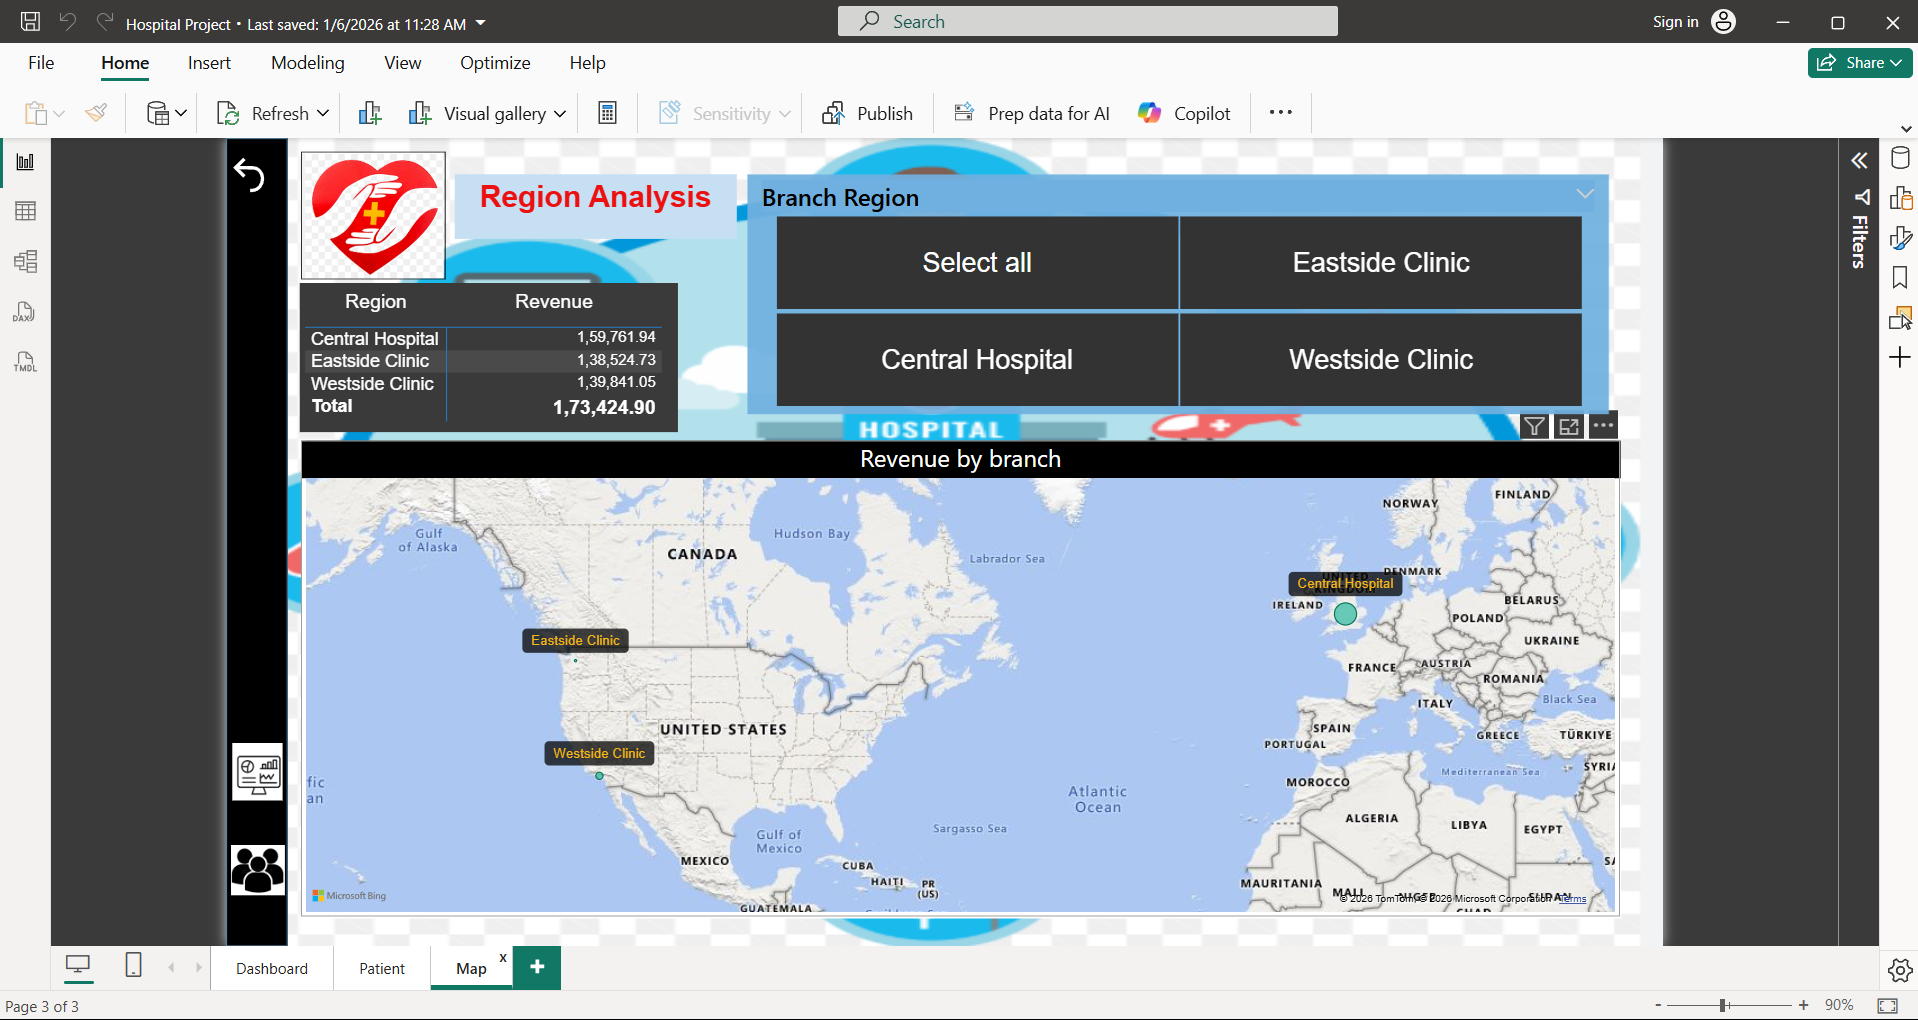

The page's visual inventory and layout, read from the dashboard file:
{"tool":"powerbi","page":{"name":"Map","canvas":[1280,720],"ordinal":2},"visuals":[{"type":"map","title":"    Revenue by branch","fields":{"Category":["doctors.hospital_branch"],"Size":["billing.Total revenue"]},"box":[66.4,269,1175.1,424.7],"z":0},{"type":"slicer","fields":{"Values":["doctors.hospital_branch"]},"box":[464.5,32.6,767.3,213.5],"z":1000},{"type":"shape","box":[0,0,55,720],"z":2000},{"type":"image","box":[66.2,12.5,128.8,113.8],"z":2001},{"type":"actionButton","box":[0,12.1,53.1,41],"z":2002},{"type":"image","box":[0,539,55.5,51.2],"z":2003},{"type":"image","box":[4.3,625.8,48.4,52.6],"z":2005},{"type":"textbox","box":[203.9,32.6,250.9,57.9],"z":2006},{"type":"pivotTable","fields":{"Rows":["doctors.hospital_branch"],"Values":["billing.Total revenue"]},"box":[65.1,129.1,336.6,132.7],"z":2007}]}

Visuals, with their boxes on the page's 1280x720 design canvas (x1, y1, x2, y2). These are canvas units, not pixel positions in the 1918x1020 screenshot, which may show the page scaled, cropped or inside an application window:
"    Revenue by branch" map: x1=66 y1=269 x2=1242 y2=694
slicer - doctors.hospital_branch: x1=464 y1=33 x2=1232 y2=246
shape: x1=0 y1=0 x2=55 y2=720
image: x1=66 y1=12 x2=195 y2=126
actionButton: x1=0 y1=12 x2=53 y2=53
image: x1=0 y1=539 x2=56 y2=590
image: x1=4 y1=626 x2=53 y2=678
textbox: x1=204 y1=33 x2=455 y2=90
pivotTable - doctors.hospital_branch x billing.Total revenue: x1=65 y1=129 x2=402 y2=262
